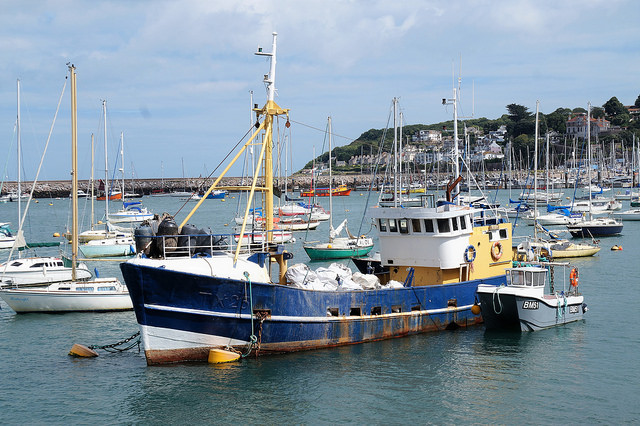boat: (3, 51, 118, 317), (301, 108, 376, 258), (482, 253, 599, 331), (566, 102, 630, 240), (104, 130, 157, 224)
fishing_boat: (120, 33, 533, 371)
